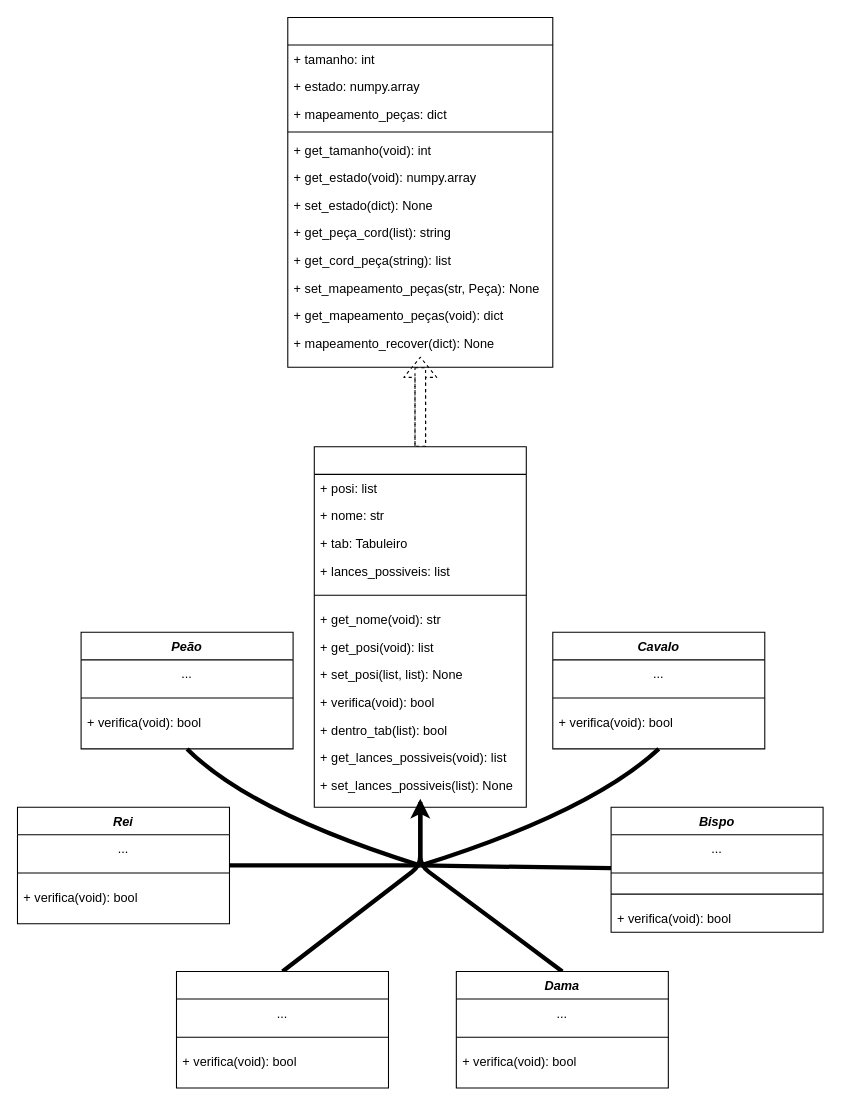
Image size: 841x1106. Some labels were removed from this diagram. Here are the shapes that lost their labels. From the top down, the box of each, then its label:
(287, 16, 553, 367): Tabuleiro
(313, 446, 526, 807): Peça
(175, 970, 388, 1088): Torre
